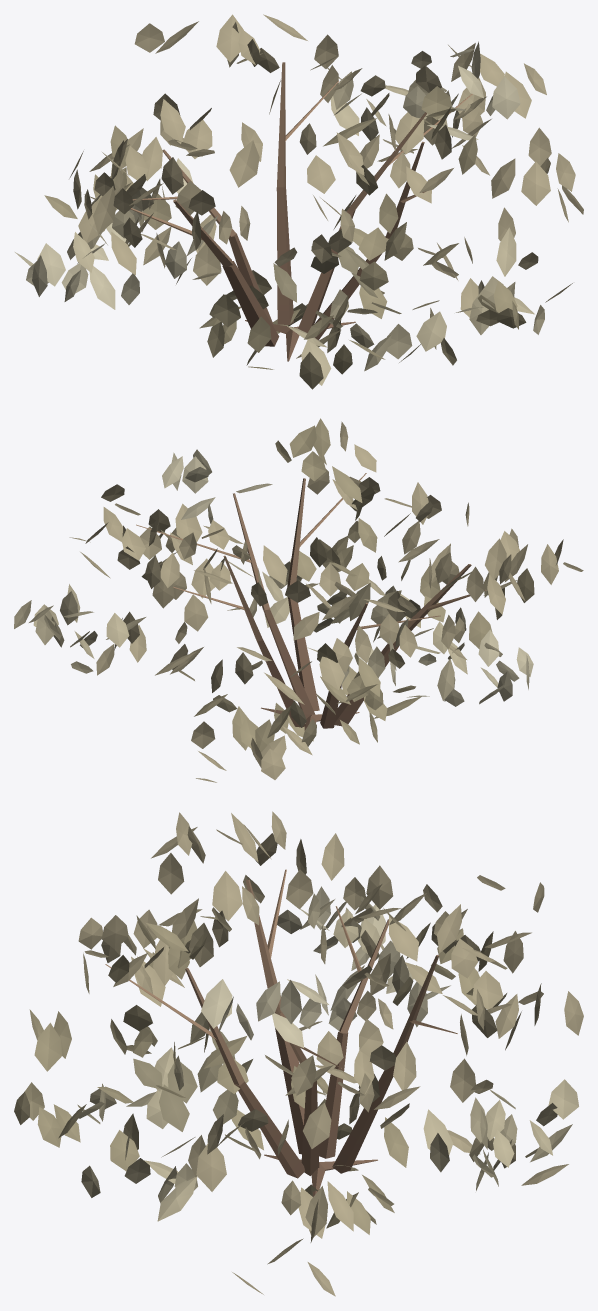
File: bush_3d_01_golden_beige.glb
3 renders of one model, top to bottom at view 1: azimuth 30°, elevation 25°; view 2: azimuth 150°, elevation 25°; view 3: azimuth 270°, elevation 25°, orthographic. The views are drawn at different scales.
Visible parts, largest first — view 1: bush_3d_01_golden_beige_foliage, bush_3d_01_golden_beige_wood; view 2: bush_3d_01_golden_beige_foliage, bush_3d_01_golden_beige_wood; view 3: bush_3d_01_golden_beige_foliage, bush_3d_01_golden_beige_wood.
Boxes of the visible parts, left/top/right/bottom form: bush_3d_01_golden_beige_foliage: left=15, top=14, right=583, bottom=389; bush_3d_01_golden_beige_wood: left=130, top=62, right=472, bottom=361; bush_3d_01_golden_beige_foliage: left=14, top=418, right=583, bottom=782; bush_3d_01_golden_beige_wood: left=136, top=473, right=486, bottom=730; bush_3d_01_golden_beige_foliage: left=14, top=811, right=583, bottom=1296; bush_3d_01_golden_beige_wood: left=105, top=869, right=457, bottom=1196.
Size of the model in its own units: 2.2 by 1.25 by 2.
